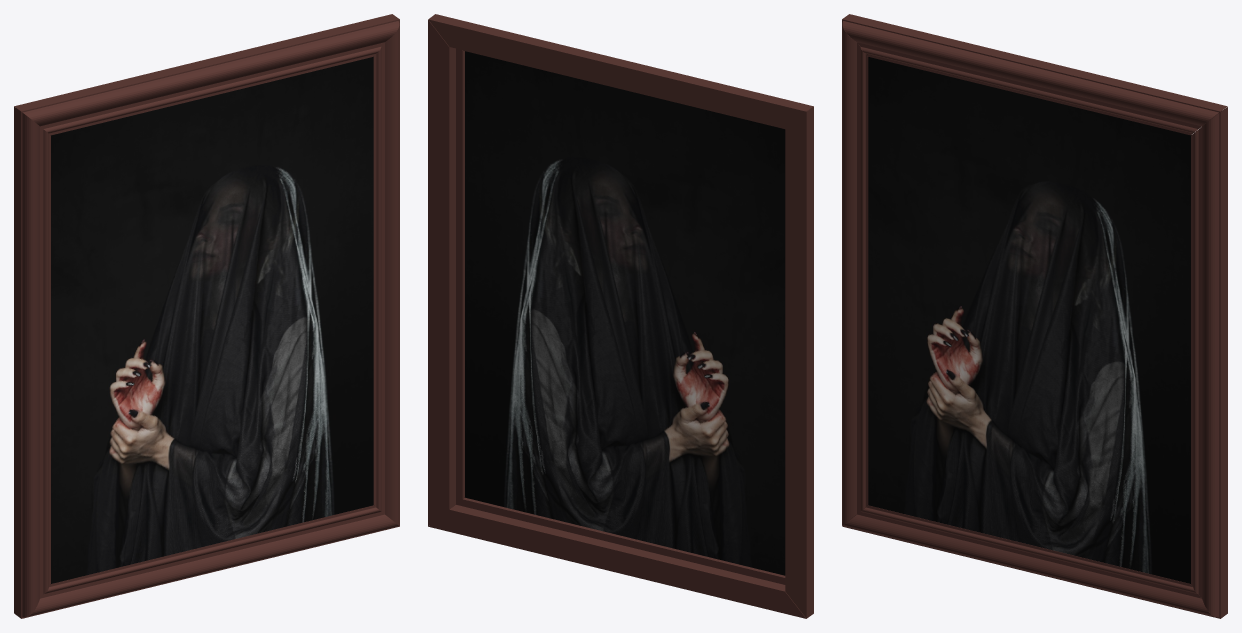
File: Figura Creepy.fbx
The picture shows the model from 3 angles, left to right: view 1: azimuth 30°, elevation 25°; view 2: azimuth 150°, elevation 25°; view 3: azimuth 330°, elevation 25°; orthographic projection.
Visible parts, largest first — view 1: Image.001, Frame.001; view 2: Image.001, Frame.001; view 3: Image.001, Frame.001.
Part boxes in pixels (left/top/right/bottom): Image.001: left=51, top=56, right=373, bottom=583; Frame.001: left=14, top=14, right=399, bottom=618; Image.001: left=465, top=51, right=785, bottom=575; Frame.001: left=428, top=14, right=813, bottom=618; Image.001: left=868, top=57, right=1191, bottom=583; Frame.001: left=842, top=14, right=1227, bottom=618.
Size of the model in its own units: 35.08 by 44.92 by 1.85.
